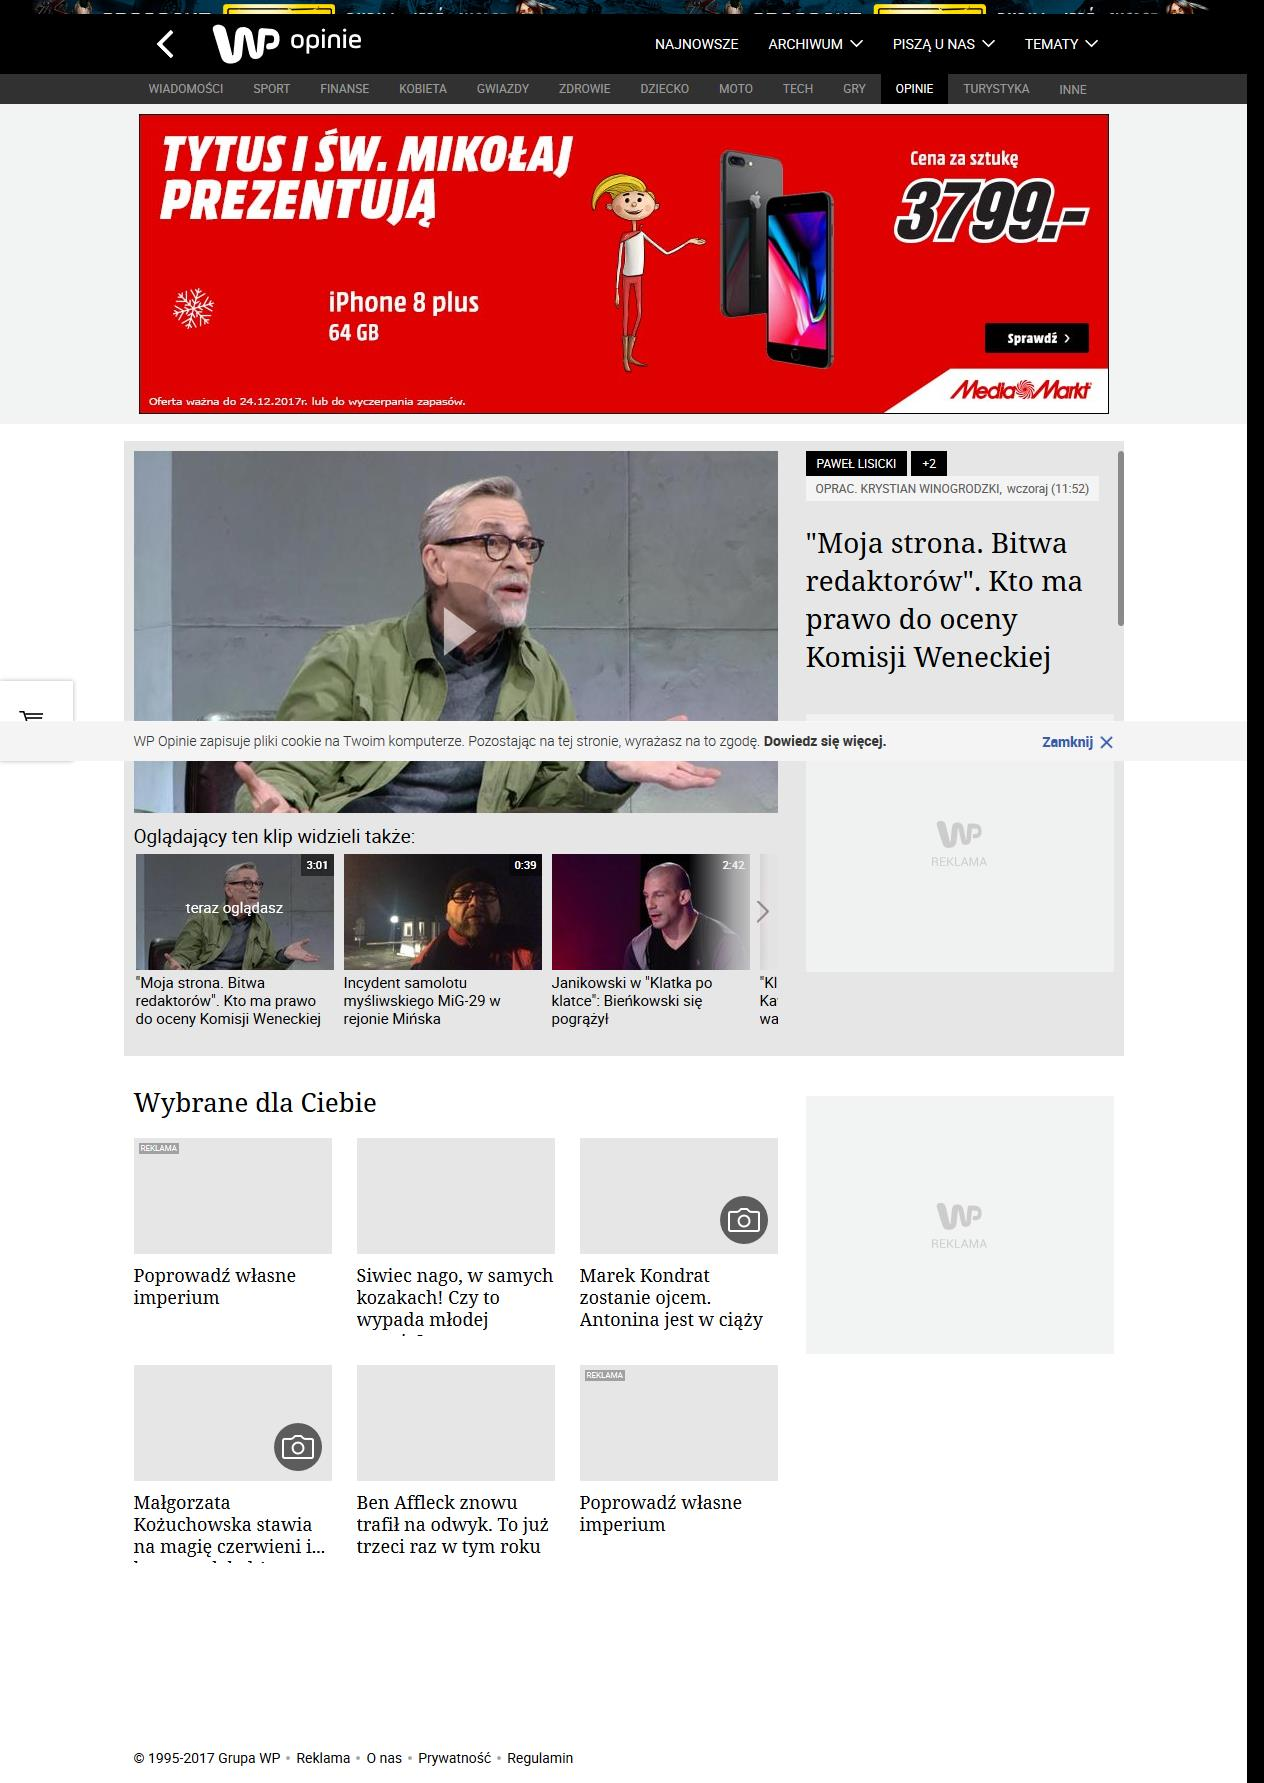title: (802, 528, 1088, 680)
